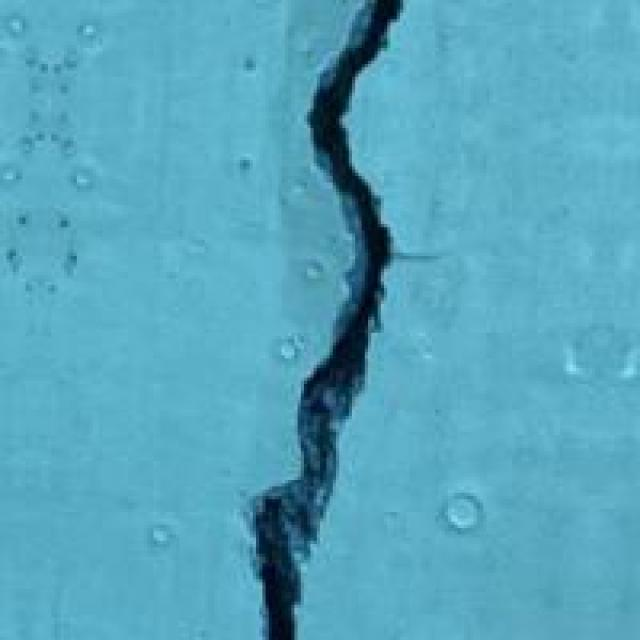crack: (237, 0, 451, 637)
